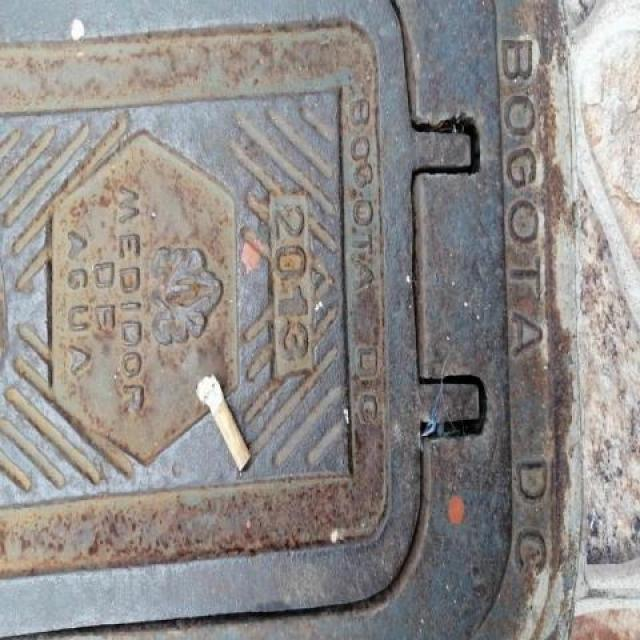non-organic waste: (193, 371, 255, 474)
